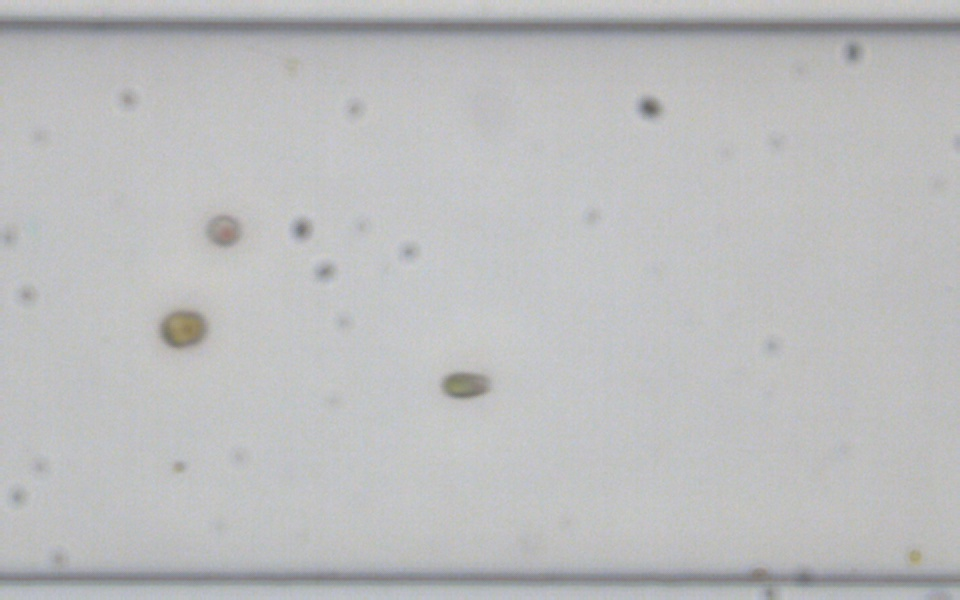Chlorella: (907, 547, 923, 564)
Dunaliella salina: (439, 368, 492, 398)
Effrenium: (157, 308, 206, 349)
Porphyridium: (203, 211, 241, 247)
